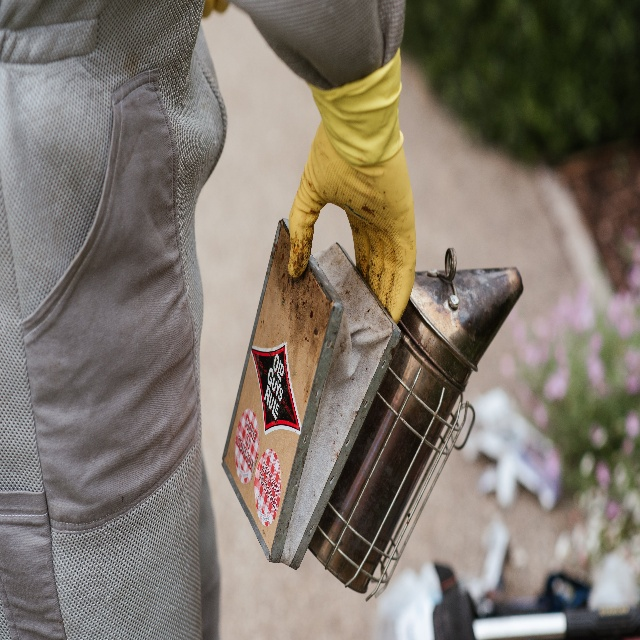Guantes: (288, 46, 418, 327)
